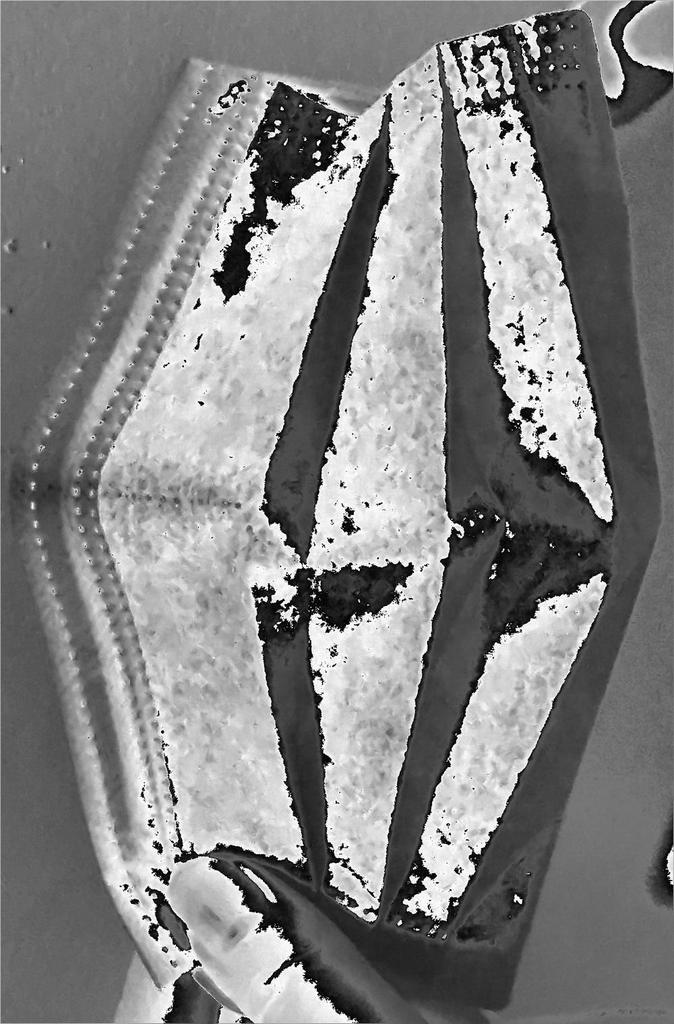High GSM: (142, 96, 623, 852)
